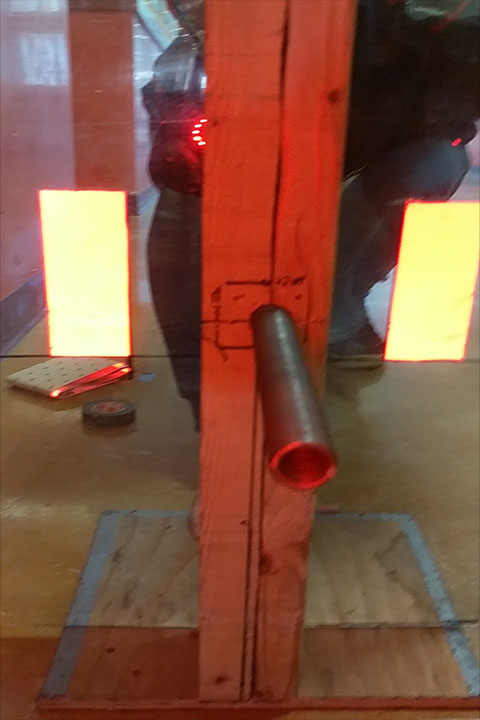gear: (38, 188, 131, 358), (384, 198, 480, 362)
